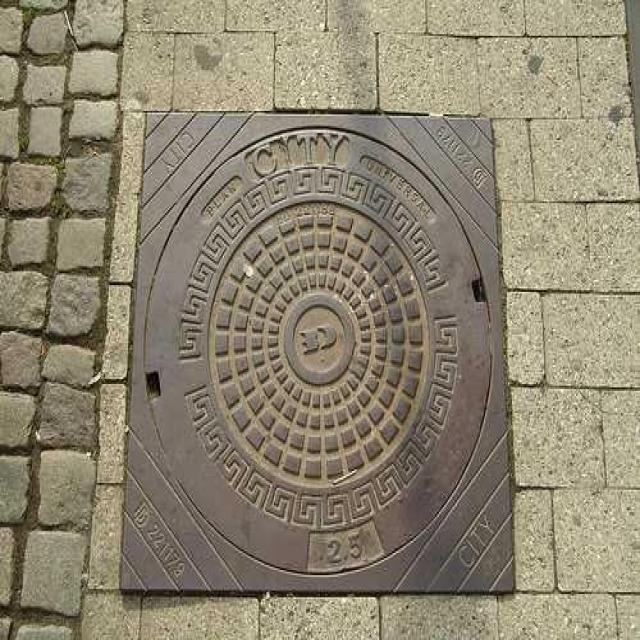manhole: (121, 113, 513, 593)
